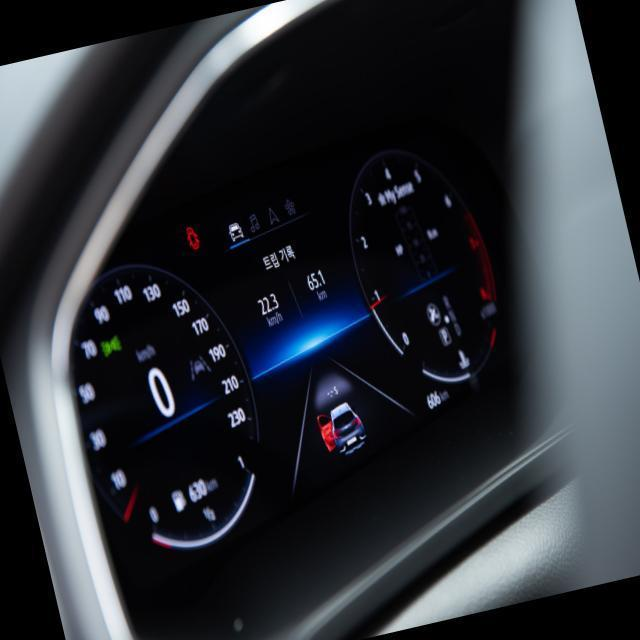Doors: (182, 222, 201, 252)
